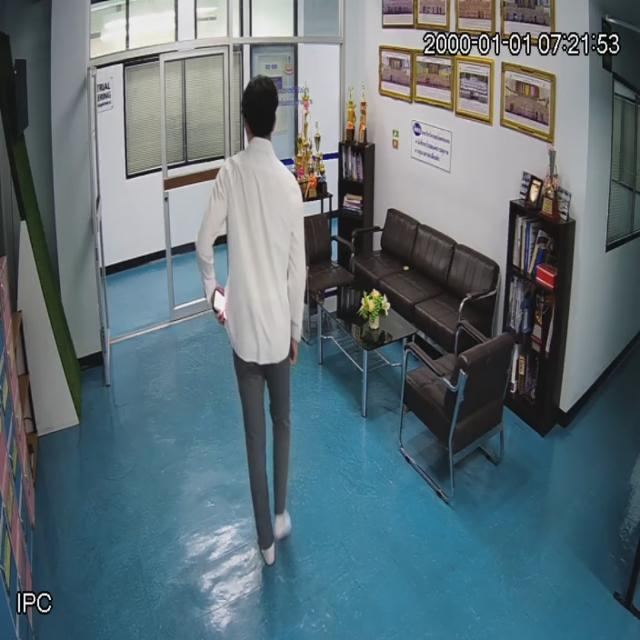normal: (197, 78, 308, 564)
